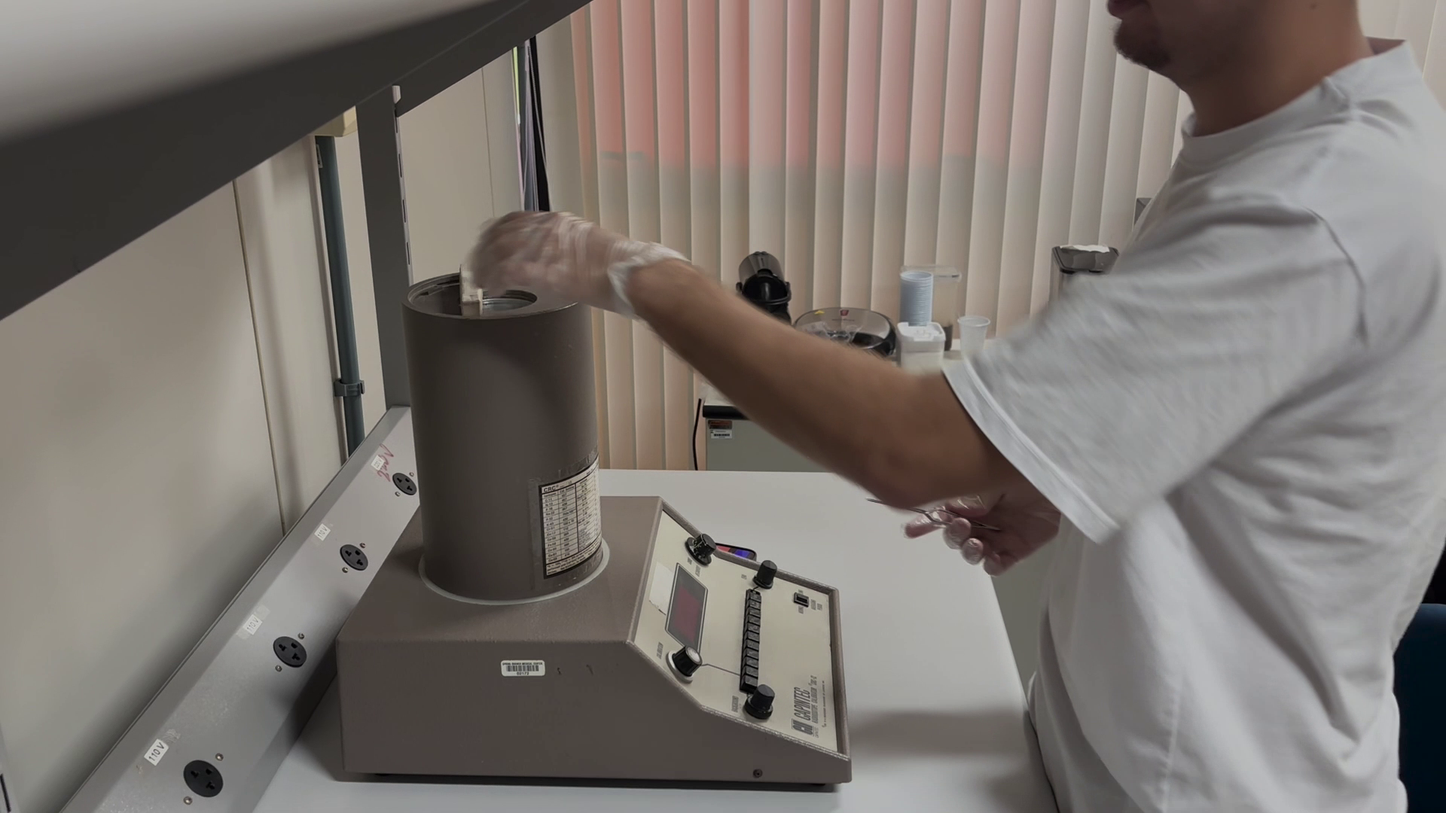Ativimetro: (398, 267, 609, 606)
Com_Luva: (464, 210, 688, 318), (901, 496, 1062, 577)
